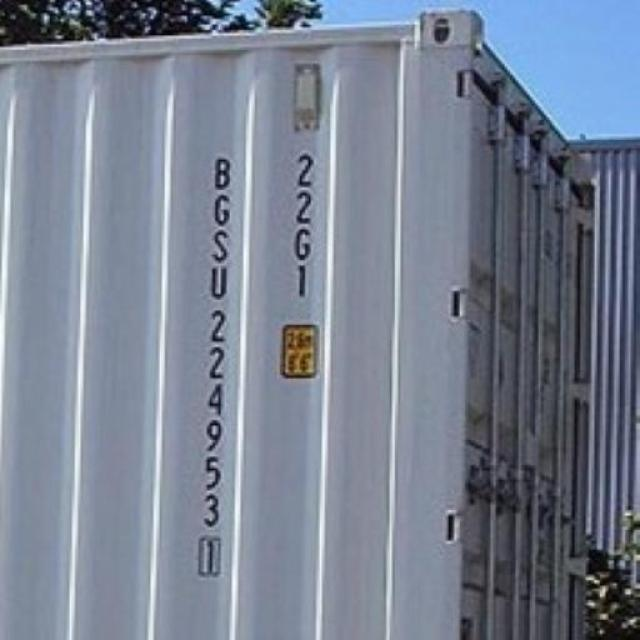ISO: (289, 148, 318, 294)
container_number: (196, 155, 236, 574)
